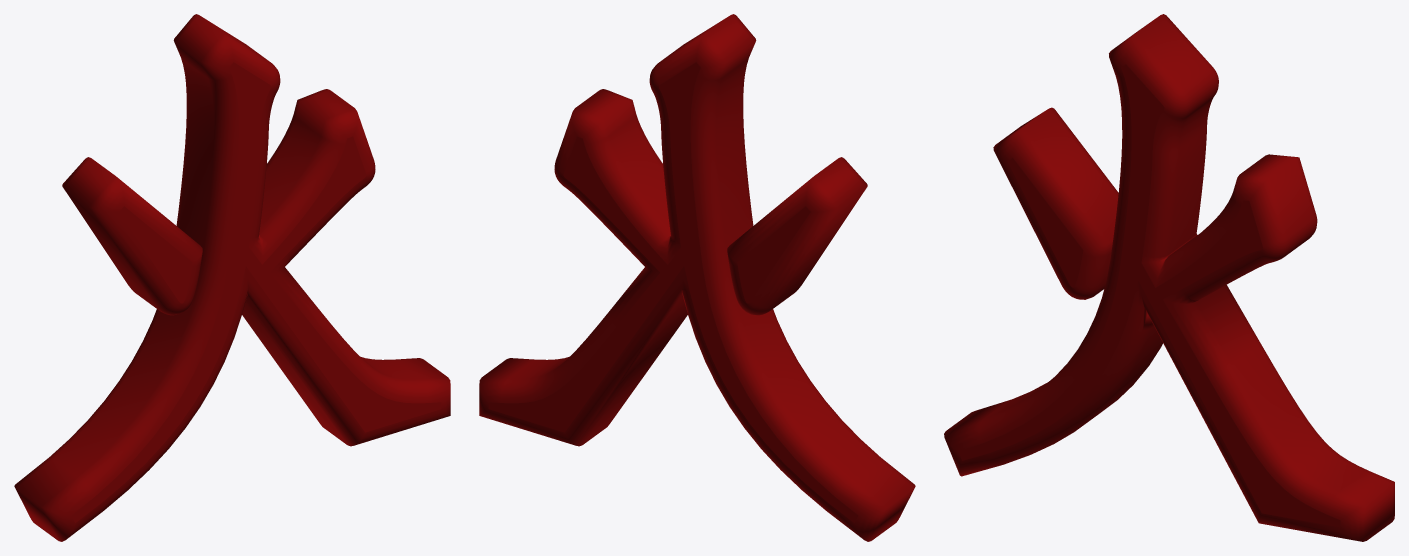
Rendered from huo.fbx.
3 views of the same model, side by side, from view 1: azimuth 30°, elevation 25°; view 2: azimuth 150°, elevation 25°; view 3: azimuth 330°, elevation 25° (orthographic). The views are drawn at different scales.
Visible parts, largest first — view 1: Text; view 2: Text; view 3: Text.
Part boxes in pixels (box(x1,y1,x2,y2)): Text: box(14, 14, 450, 541); Text: box(479, 14, 915, 541); Text: box(944, 14, 1394, 541).
Size of the model in its own units: 75.86 by 83.23 by 14.
